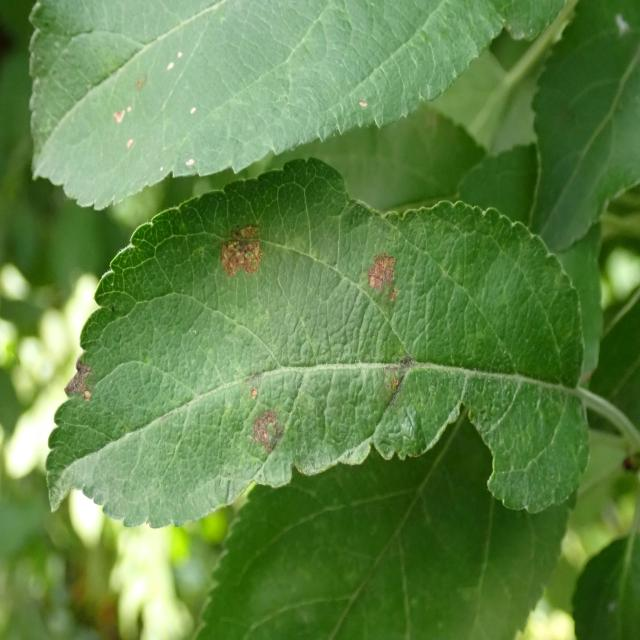scab: (51, 192, 563, 534)
